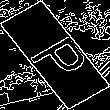P_NE: (18, 26, 92, 84)
